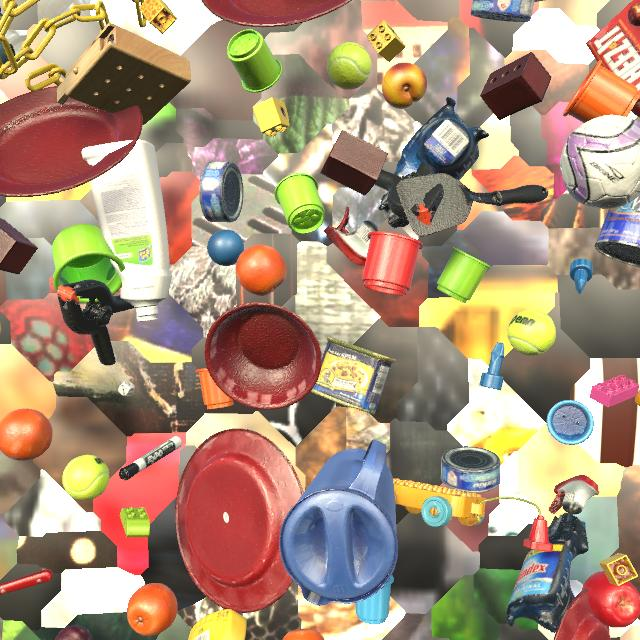ycb_002_master_chef_can: (595, 195, 640, 268)
ycb_003_cracker_box: (586, 0, 640, 118)
ycb_004_sugar_box: (534, 0, 544, 2)
ycb_006_mustard_bottle: (188, 609, 247, 640)
ycb_007_tuna_fish_can: (440, 446, 501, 493), (199, 161, 243, 222), (471, 0, 535, 22)
ycb_010_potted_meat_can: (311, 336, 396, 414)
ycb_011_banana: (635, 390, 640, 406)
ycb_013_apple: (582, 571, 640, 628)
ycb_014_lemon: (0, 323, 1, 333)
ycb_015_peach: (382, 62, 427, 109)
ycb_017_orange: (0, 409, 53, 461), (127, 583, 178, 636), (236, 245, 287, 296), (282, 629, 325, 640)
ycb_018_plum: (55, 625, 92, 640)
